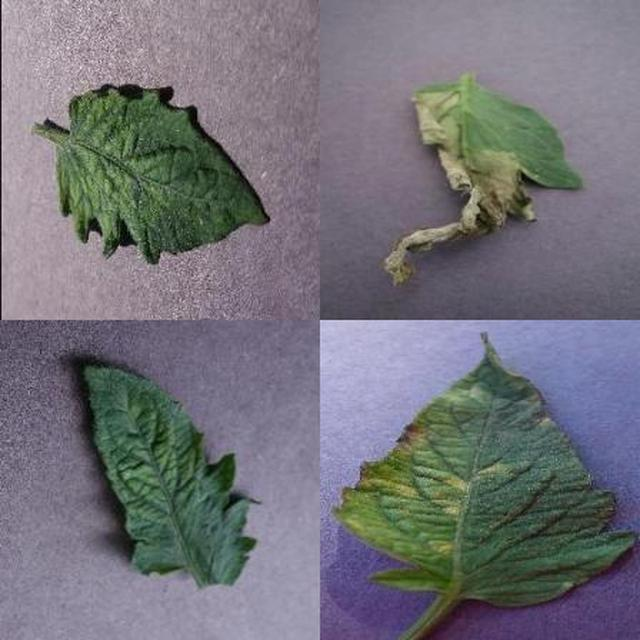Mosaic Virus Leaf: (234, 248, 640, 640)
